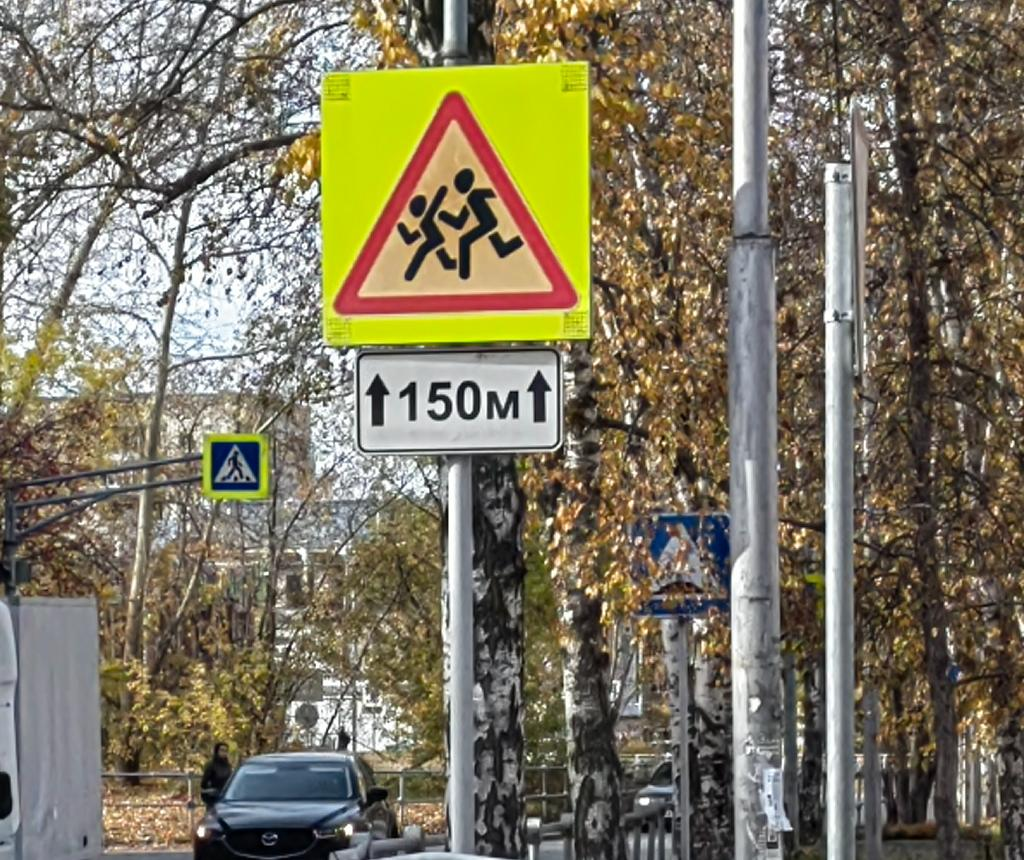obstructed_road_sign: (629, 515, 729, 616)
road_sign: (322, 72, 587, 341), (359, 351, 560, 451), (202, 434, 271, 500)
